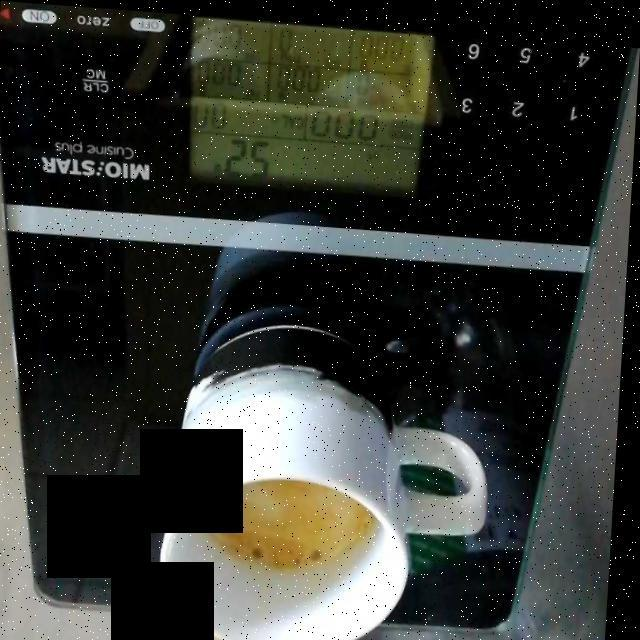drink: (208, 477, 377, 565)
